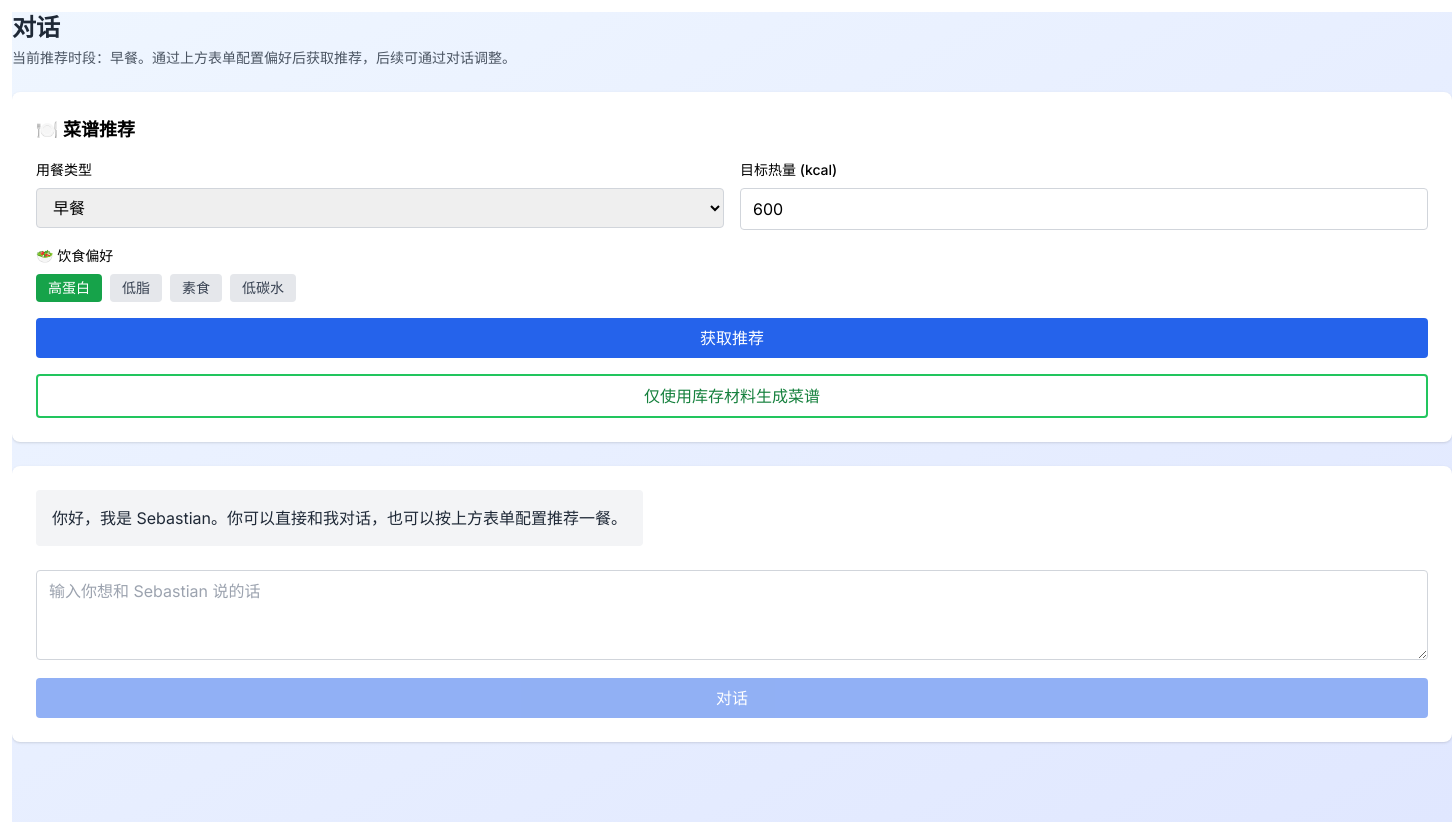
ConversationPage — 菜谱推荐结果展示 › B3. 推荐失败时显示错误
This screenshot has width=1452, height=822.
What coordinates should you click on to do the following:
click the button "获取推荐"
I would click on:
 (732, 338)
Its box is [36, 318, 1428, 358].
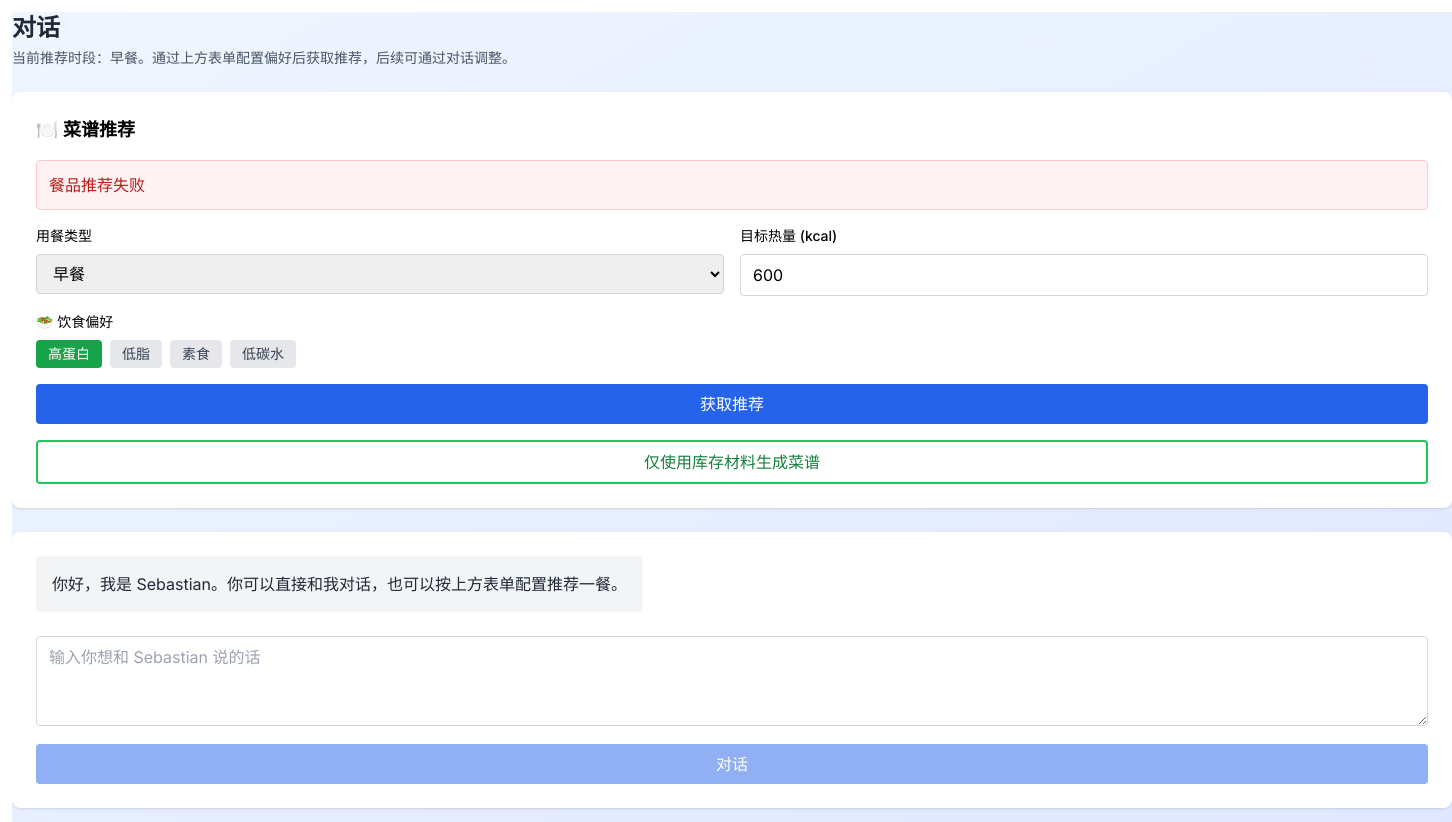
Expected: the message "餐品推荐失败" is shown, [36, 160, 1428, 210]
